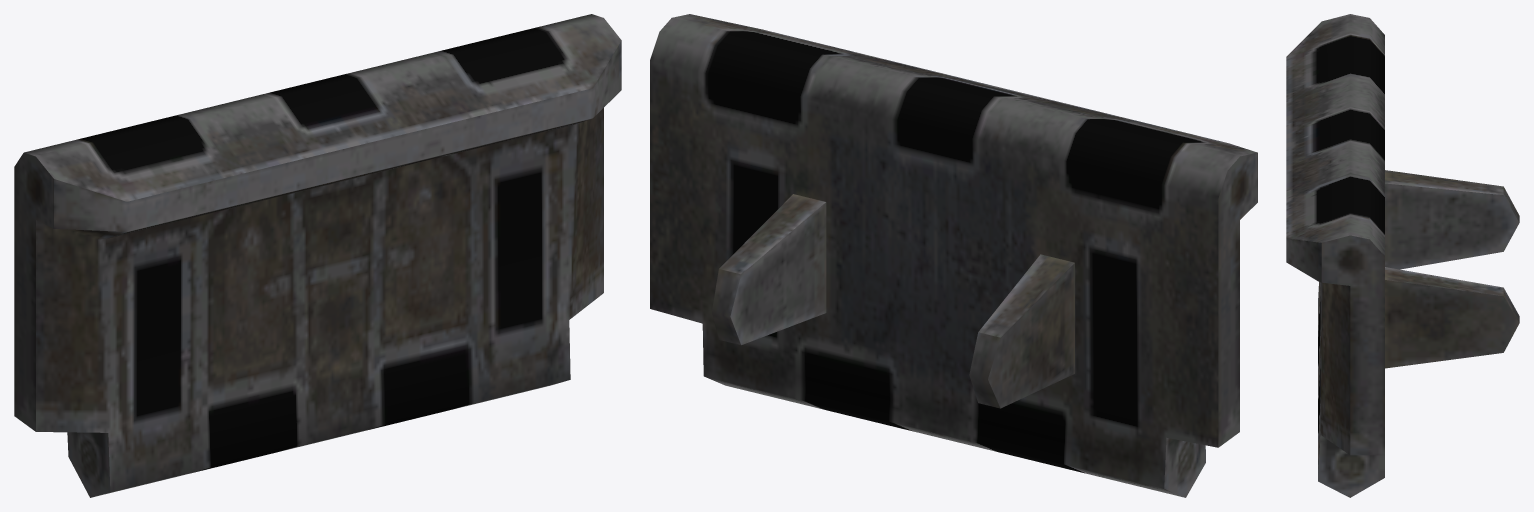
3 renders of one model, left to right at view 1: azimuth 30°, elevation 25°; view 2: azimuth 150°, elevation 25°; view 3: azimuth 270°, elevation 25°, orthographic. The views are drawn at different scales.
Parts seen in each view (by area): view 1: set_0_group_0; view 2: set_0_group_0; view 3: set_0_group_0.
Boxes of the visible parts, x1,y1,x2,y2 form: set_0_group_0: [14, 14, 621, 497]; set_0_group_0: [650, 14, 1257, 497]; set_0_group_0: [1286, 14, 1519, 497].
Bounding box in the file's own units: 0.24 × 0.1431 × 0.1067.
1 material, 1 textured.
